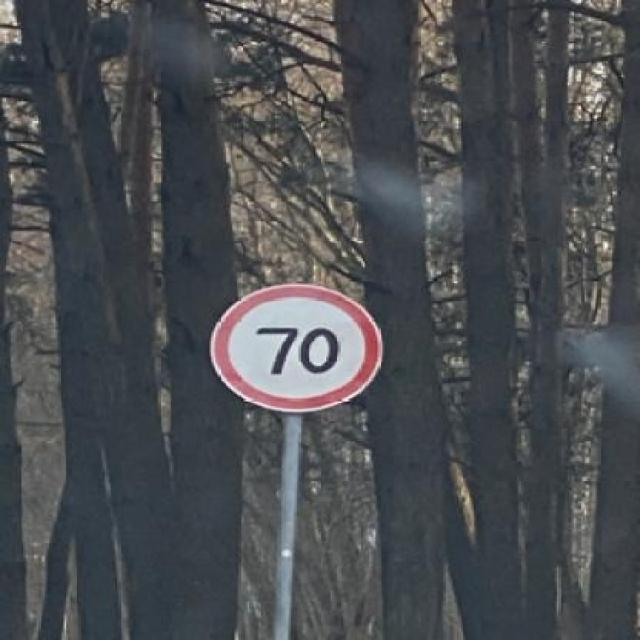forb_speed_over_70: (210, 287, 382, 411)
